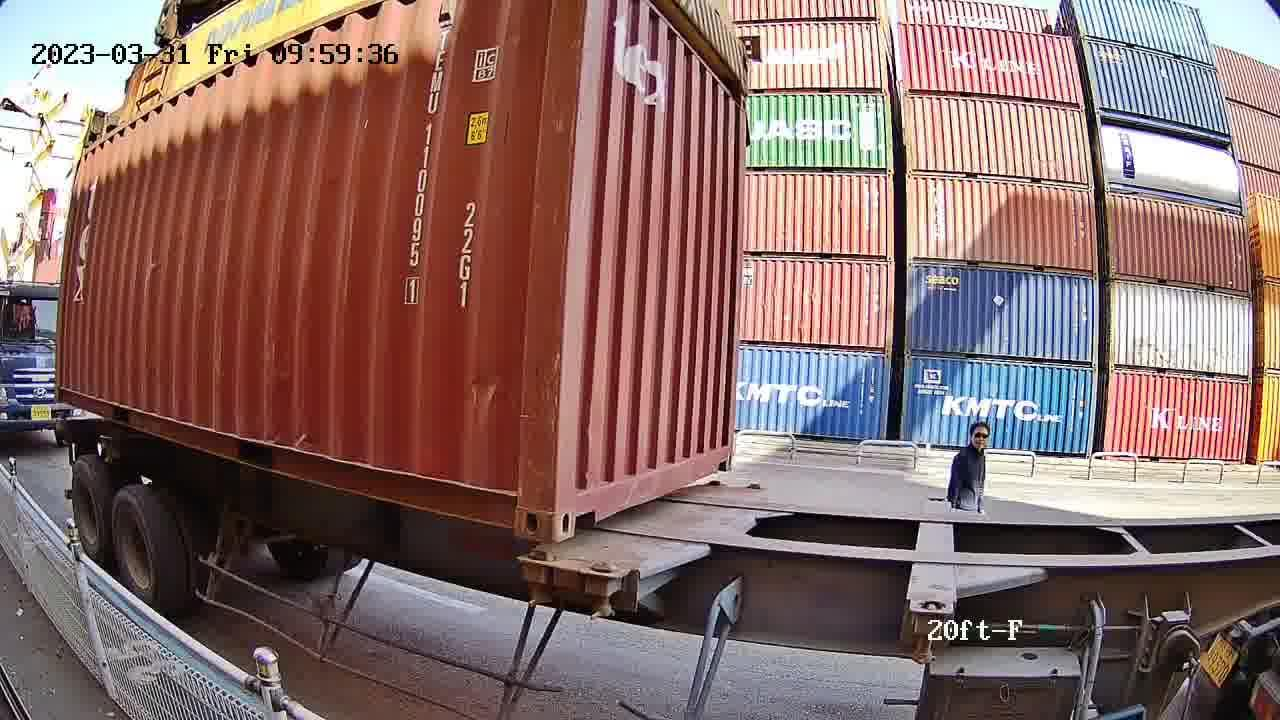Chassis: (584, 486, 766, 576)
Cone: (583, 561, 628, 619), (521, 549, 556, 606)
Hole_L: (553, 460, 601, 541)
Hole_R: (488, 460, 556, 541), (711, 434, 735, 473)
Tire: (110, 489, 158, 601), (70, 462, 109, 562)
